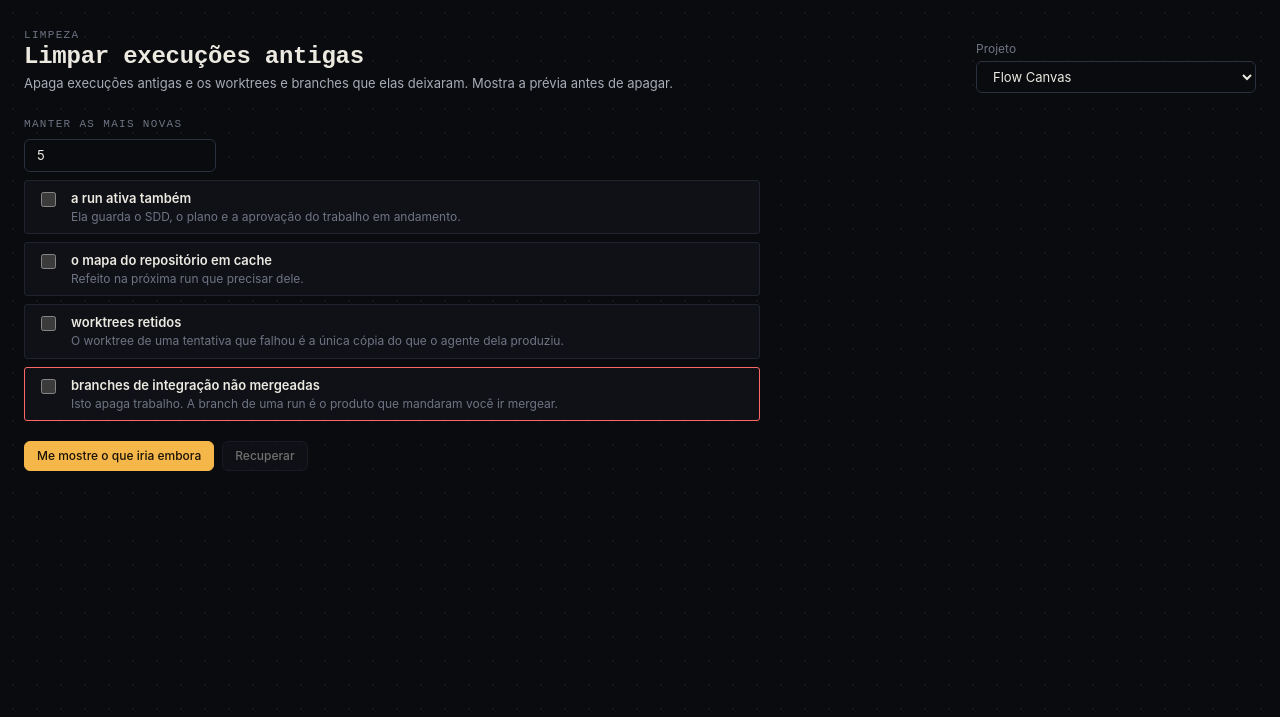
it: the clean page › enables the write only once a plan exists
Click the button "Me mostre o que iria embora" at (119, 456), box 24,441 -> 214,471
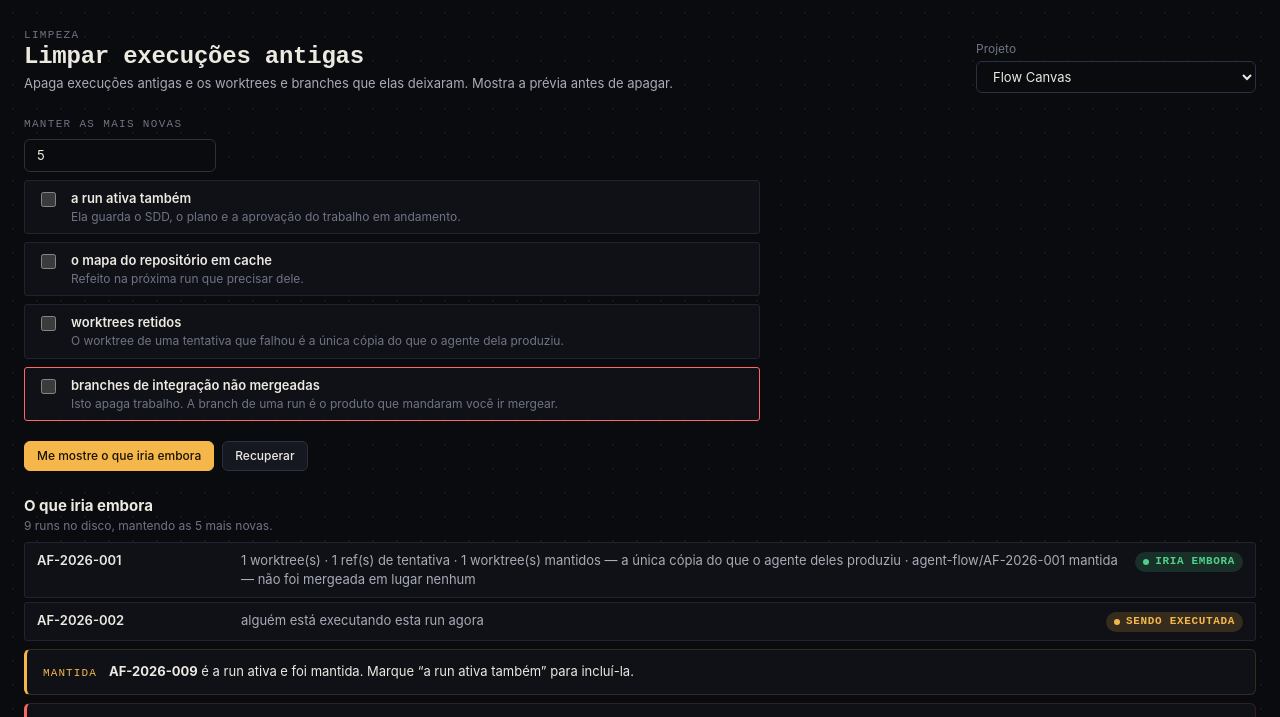
Expected: the button "Recuperar" is enabled, 222,441 -> 308,471
